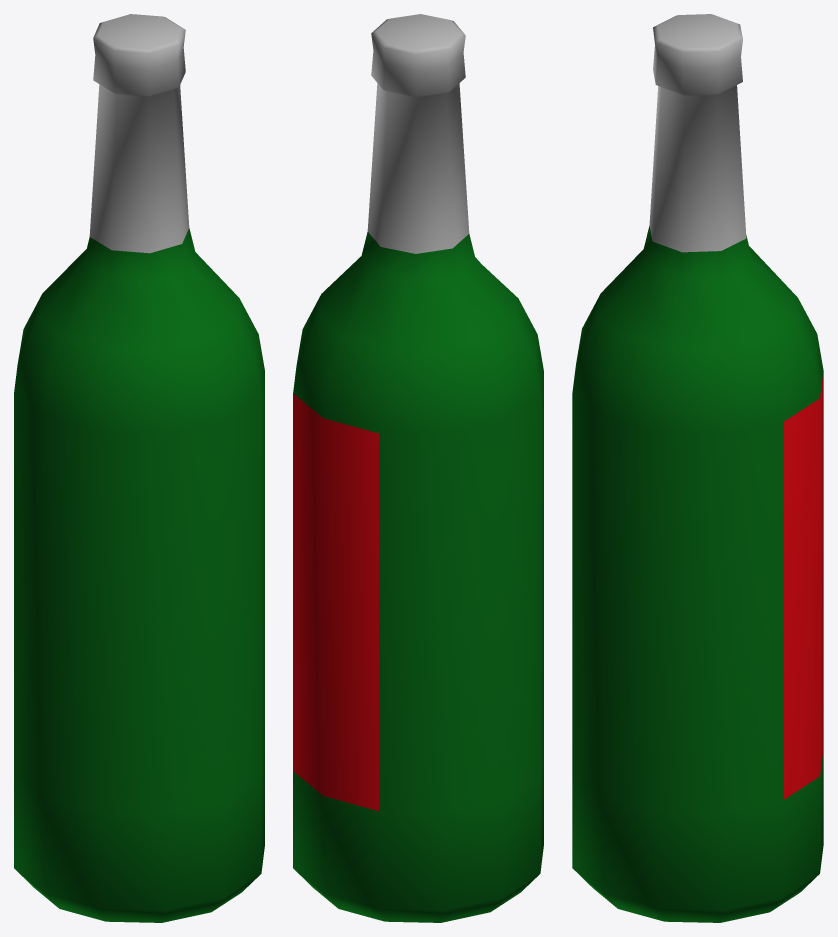
The model's file is Iconic.fbx.
The picture shows the model from 3 angles, left to right: view 1: azimuth 30°, elevation 25°; view 2: azimuth 150°, elevation 25°; view 3: azimuth 270°, elevation 25°; orthographic projection.
Parts seen in each view (by area): view 1: Icon; view 2: Icon; view 3: Icon.
Boxes of the visible parts, x1,y1,x2,y2 form: Icon: (14,14,264,922); Icon: (293,14,543,922); Icon: (572,14,823,922).
Bounding box in the file's own units: 7.58 × 28.23 × 7.58.
